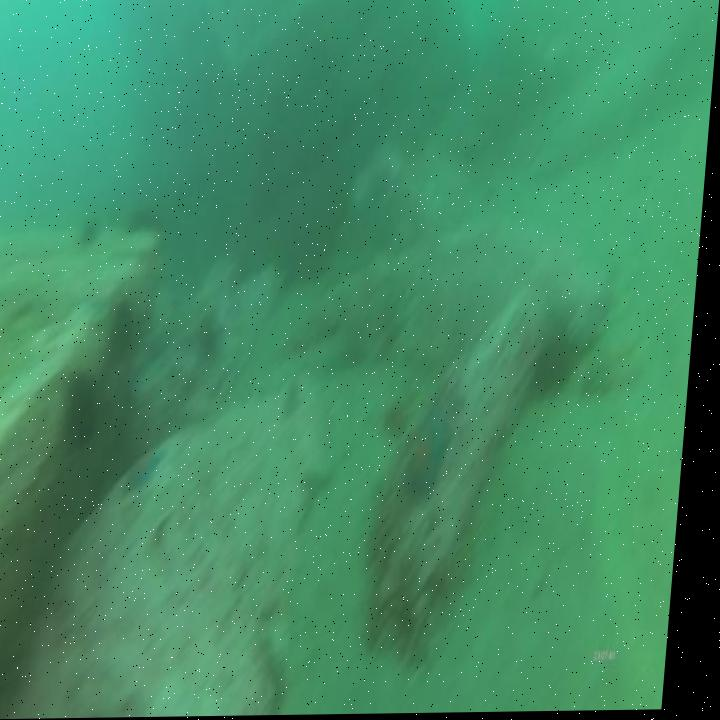echinus: (65, 361, 110, 450), (536, 327, 585, 404), (112, 295, 146, 366)
starfish: (413, 405, 462, 508), (123, 447, 175, 501)
